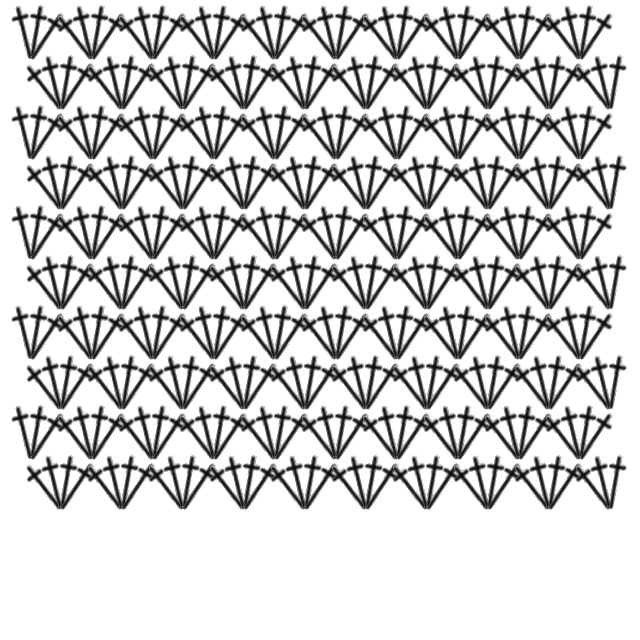enseble_chain: (18, 5, 77, 70), (46, 5, 105, 70), (79, 5, 138, 70), (107, 5, 166, 70), (140, 5, 199, 70), (168, 5, 227, 70), (201, 5, 260, 70), (229, 5, 288, 70), (262, 5, 321, 70), (290, 5, 349, 70), (323, 5, 382, 70), (351, 5, 410, 70), (384, 5, 443, 70), (412, 5, 471, 70), (445, 5, 504, 70), (473, 5, 532, 70), (506, 5, 565, 70), (534, 5, 593, 70), (567, 5, 626, 70), (15, 55, 74, 120), (48, 55, 107, 120), (76, 55, 135, 120), (109, 55, 168, 120), (137, 55, 196, 120), (170, 55, 229, 120), (198, 55, 257, 120), (231, 55, 290, 120), (259, 55, 318, 120), (292, 55, 351, 120), (320, 55, 379, 120), (353, 55, 412, 120), (381, 55, 440, 120), (414, 55, 473, 120), (442, 55, 501, 120), (475, 55, 534, 120), (503, 55, 562, 120), (536, 55, 595, 120), (564, 55, 623, 120), (18, 105, 77, 170), (46, 105, 105, 170), (79, 105, 138, 170), (107, 105, 166, 170), (140, 105, 199, 170), (168, 105, 227, 170), (201, 105, 260, 170), (229, 105, 288, 170), (262, 105, 321, 170), (290, 105, 349, 170), (323, 105, 382, 170), (351, 105, 410, 170), (384, 105, 443, 170), (412, 105, 471, 170), (445, 105, 504, 170), (473, 105, 532, 170), (506, 105, 565, 170), (534, 105, 593, 170), (567, 105, 626, 170), (15, 155, 74, 220), (48, 155, 107, 220), (76, 155, 135, 220), (109, 155, 168, 220), (137, 155, 196, 220), (170, 155, 229, 220), (198, 155, 257, 220), (231, 155, 290, 220), (259, 155, 318, 220), (292, 155, 351, 220), (320, 155, 379, 220), (353, 155, 412, 220), (381, 155, 440, 220), (414, 155, 473, 220), (442, 155, 501, 220), (475, 155, 534, 220), (503, 155, 562, 220), (536, 155, 595, 220), (564, 155, 623, 220), (18, 205, 77, 270), (46, 205, 105, 270), (79, 205, 138, 270), (107, 205, 166, 270), (140, 205, 199, 270), (168, 205, 227, 270), (201, 205, 260, 270), (229, 205, 288, 270), (262, 205, 321, 270), (290, 205, 349, 270), (323, 205, 382, 270), (351, 205, 410, 270), (384, 205, 443, 270), (412, 205, 471, 270), (445, 205, 504, 270), (473, 205, 532, 270), (506, 205, 565, 270), (534, 205, 593, 270), (567, 205, 626, 270), (15, 255, 74, 320), (48, 255, 107, 320), (76, 255, 135, 320), (109, 255, 168, 320), (137, 255, 196, 320), (170, 255, 229, 320), (198, 255, 257, 320), (231, 255, 290, 320), (259, 255, 318, 320), (292, 255, 351, 320), (320, 255, 379, 320), (353, 255, 412, 320), (381, 255, 440, 320), (414, 255, 473, 320), (442, 255, 501, 320), (475, 255, 534, 320), (503, 255, 562, 320), (536, 255, 595, 320), (564, 255, 623, 320), (18, 305, 77, 370), (46, 305, 105, 370), (79, 305, 138, 370), (107, 305, 166, 370), (140, 305, 199, 370), (168, 305, 227, 370), (201, 305, 260, 370), (229, 305, 288, 370), (262, 305, 321, 370), (290, 305, 349, 370), (323, 305, 382, 370), (351, 305, 410, 370), (384, 305, 443, 370), (412, 305, 471, 370), (445, 305, 504, 370), (473, 305, 532, 370), (506, 305, 565, 370), (534, 305, 593, 370), (567, 305, 626, 370), (15, 355, 74, 420), (48, 355, 107, 420), (76, 355, 135, 420), (109, 355, 168, 420), (137, 355, 196, 420), (170, 355, 229, 420), (198, 355, 257, 420), (231, 355, 290, 420), (259, 355, 318, 420), (292, 355, 351, 420), (320, 355, 379, 420), (353, 355, 412, 420), (381, 355, 440, 420), (414, 355, 473, 420), (442, 355, 501, 420), (475, 355, 534, 420), (503, 355, 562, 420), (536, 355, 595, 420), (564, 355, 623, 420), (18, 405, 77, 470), (46, 405, 105, 470), (79, 405, 138, 470), (107, 405, 166, 470), (140, 405, 199, 470), (168, 405, 227, 470), (201, 405, 260, 470), (229, 405, 288, 470), (262, 405, 321, 470), (290, 405, 349, 470), (323, 405, 382, 470), (351, 405, 410, 470), (384, 405, 443, 470), (412, 405, 471, 470), (445, 405, 504, 470), (473, 405, 532, 470), (506, 405, 565, 470), (534, 405, 593, 470), (567, 405, 626, 470), (15, 455, 74, 520), (48, 455, 107, 520), (76, 455, 135, 520), (109, 455, 168, 520), (137, 455, 196, 520), (170, 455, 229, 520), (198, 455, 257, 520), (231, 455, 290, 520), (259, 455, 318, 520), (292, 455, 351, 520), (320, 455, 379, 520), (353, 455, 412, 520), (381, 455, 440, 520), (414, 455, 473, 520), (442, 455, 501, 520), (475, 455, 534, 520), (503, 455, 562, 520), (536, 455, 595, 520), (564, 455, 623, 520), (3, 2, 47, 63), (15, 2, 59, 63), (64, 2, 108, 63), (76, 2, 120, 63), (125, 2, 169, 63), (137, 2, 181, 63), (186, 2, 230, 63), (198, 2, 242, 63), (247, 2, 291, 63), (259, 2, 303, 63), (308, 2, 352, 63), (320, 2, 364, 63), (369, 2, 413, 63), (381, 2, 425, 63), (430, 2, 474, 63), (442, 2, 486, 63), (491, 2, 535, 63), (503, 2, 547, 63), (552, 2, 596, 63), (564, 2, 608, 63), (33, 52, 77, 113), (45, 52, 89, 113), (94, 52, 138, 113), (106, 52, 150, 113), (155, 52, 199, 113), (167, 52, 211, 113), (216, 52, 260, 113), (228, 52, 272, 113), (277, 52, 321, 113), (289, 52, 333, 113), (338, 52, 382, 113), (350, 52, 394, 113), (399, 52, 443, 113), (411, 52, 455, 113), (460, 52, 504, 113), (472, 52, 516, 113), (521, 52, 565, 113), (533, 52, 577, 113), (582, 52, 626, 113), (594, 52, 638, 113), (3, 102, 47, 163), (15, 102, 59, 163), (64, 102, 108, 163), (76, 102, 120, 163), (125, 102, 169, 163), (137, 102, 181, 163), (186, 102, 230, 163), (198, 102, 242, 163), (247, 102, 291, 163), (259, 102, 303, 163), (308, 102, 352, 163), (320, 102, 364, 163), (369, 102, 413, 163), (381, 102, 425, 163), (430, 102, 474, 163), (442, 102, 486, 163), (491, 102, 535, 163), (503, 102, 547, 163), (552, 102, 596, 163), (564, 102, 608, 163), (33, 152, 77, 213), (45, 152, 89, 213), (94, 152, 138, 213), (106, 152, 150, 213), (155, 152, 199, 213), (167, 152, 211, 213), (216, 152, 260, 213), (228, 152, 272, 213), (277, 152, 321, 213), (289, 152, 333, 213), (338, 152, 382, 213), (350, 152, 394, 213), (399, 152, 443, 213), (411, 152, 455, 213), (460, 152, 504, 213), (472, 152, 516, 213), (521, 152, 565, 213), (533, 152, 577, 213), (582, 152, 626, 213), (594, 152, 638, 213), (3, 202, 47, 263), (15, 202, 59, 263), (64, 202, 108, 263), (76, 202, 120, 263), (125, 202, 169, 263), (137, 202, 181, 263), (186, 202, 230, 263), (198, 202, 242, 263), (247, 202, 291, 263), (259, 202, 303, 263), (308, 202, 352, 263), (320, 202, 364, 263), (369, 202, 413, 263), (381, 202, 425, 263), (430, 202, 474, 263), (442, 202, 486, 263), (491, 202, 535, 263), (503, 202, 547, 263), (552, 202, 596, 263), (564, 202, 608, 263), (33, 252, 77, 313), (45, 252, 89, 313), (94, 252, 138, 313), (106, 252, 150, 313), (155, 252, 199, 313), (167, 252, 211, 313), (216, 252, 260, 313), (228, 252, 272, 313), (277, 252, 321, 313), (289, 252, 333, 313), (338, 252, 382, 313), (350, 252, 394, 313), (399, 252, 443, 313), (411, 252, 455, 313), (460, 252, 504, 313), (472, 252, 516, 313), (521, 252, 565, 313), (533, 252, 577, 313), (582, 252, 626, 313), (594, 252, 638, 313), (3, 302, 47, 363), (15, 302, 59, 363), (64, 302, 108, 363), (76, 302, 120, 363), (125, 302, 169, 363), (137, 302, 181, 363), (186, 302, 230, 363), (198, 302, 242, 363), (247, 302, 291, 363), (259, 302, 303, 363), (308, 302, 352, 363), (320, 302, 364, 363), (369, 302, 413, 363), (381, 302, 425, 363), (430, 302, 474, 363), (442, 302, 486, 363), (491, 302, 535, 363), (503, 302, 547, 363), (552, 302, 596, 363), (564, 302, 608, 363), (33, 352, 77, 413), (45, 352, 89, 413), (94, 352, 138, 413), (106, 352, 150, 413), (155, 352, 199, 413), (167, 352, 211, 413), (216, 352, 260, 413), (228, 352, 272, 413), (277, 352, 321, 413), (289, 352, 333, 413), (338, 352, 382, 413), (350, 352, 394, 413), (399, 352, 443, 413), (411, 352, 455, 413), (460, 352, 504, 413), (472, 352, 516, 413), (521, 352, 565, 413), (533, 352, 577, 413), (582, 352, 626, 413), (594, 352, 638, 413), (3, 402, 47, 463), (15, 402, 59, 463), (64, 402, 108, 463), (76, 402, 120, 463), (125, 402, 169, 463), (137, 402, 181, 463), (186, 402, 230, 463), (198, 402, 242, 463), (247, 402, 291, 463), (259, 402, 303, 463), (308, 402, 352, 463), (320, 402, 364, 463), (369, 402, 413, 463), (381, 402, 425, 463), (430, 402, 474, 463), (442, 402, 486, 463), (491, 402, 535, 463), (503, 402, 547, 463), (552, 402, 596, 463), (564, 402, 608, 463), (33, 452, 77, 513), (45, 452, 89, 513), (94, 452, 138, 513), (106, 452, 150, 513), (155, 452, 199, 513), (167, 452, 211, 513), (216, 452, 260, 513), (228, 452, 272, 513), (277, 452, 321, 513), (289, 452, 333, 513), (338, 452, 382, 513), (350, 452, 394, 513), (399, 452, 443, 513), (411, 452, 455, 513), (460, 452, 504, 513), (472, 452, 516, 513), (521, 452, 565, 513), (533, 452, 577, 513), (582, 452, 626, 513), (594, 452, 638, 513)
